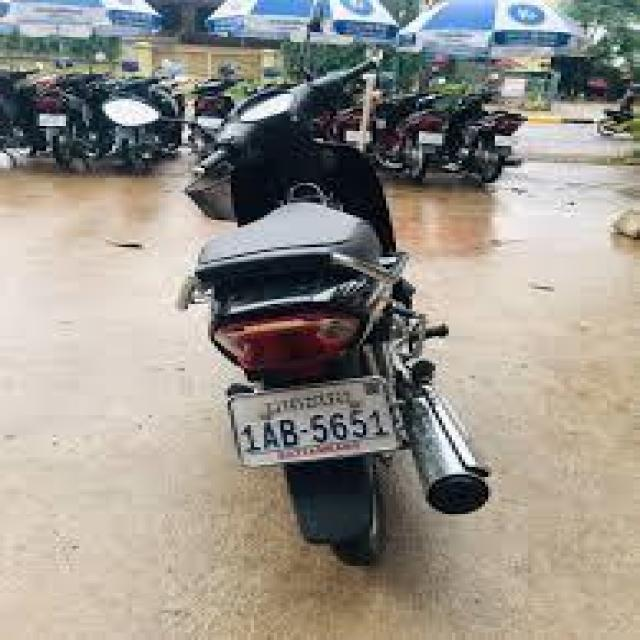Battambang: (261, 390, 350, 413)
